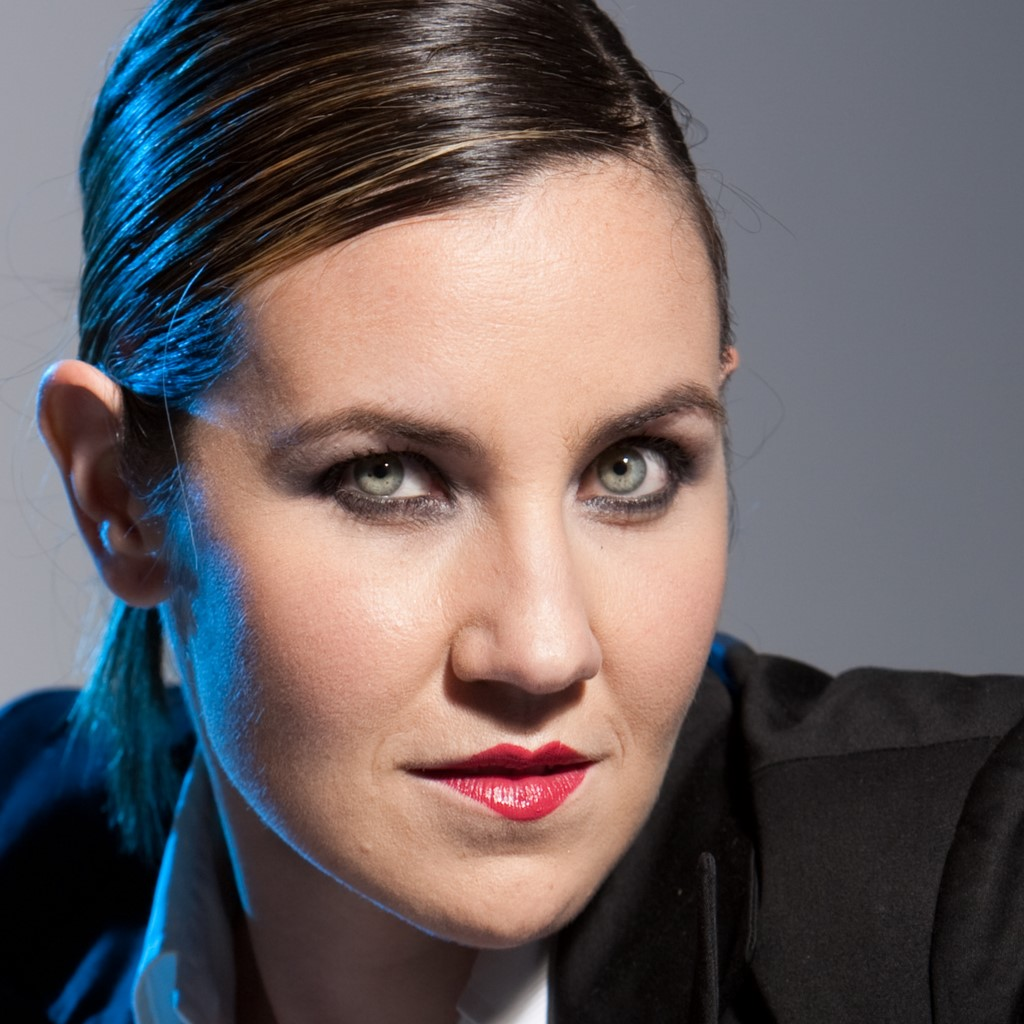sin_mascara: (156, 182, 728, 933)
